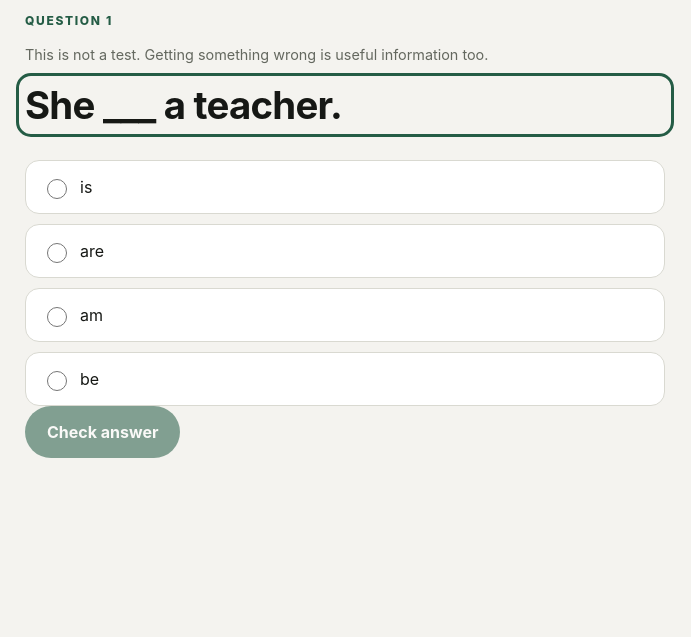
it: answering › locks the answer once submitted
The image size is (691, 637).
expect the heading "She ___ a teacher." is shown: met, box [25,82,342,128]
Click the radio button labelled "is": (57,189) [47,179,67,199]
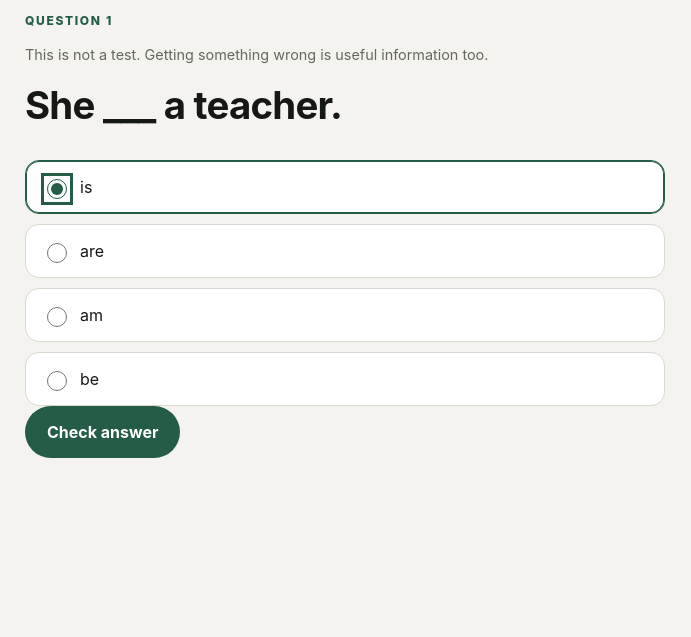
Click the button "Check answer": (103,432) [25,406,180,458]
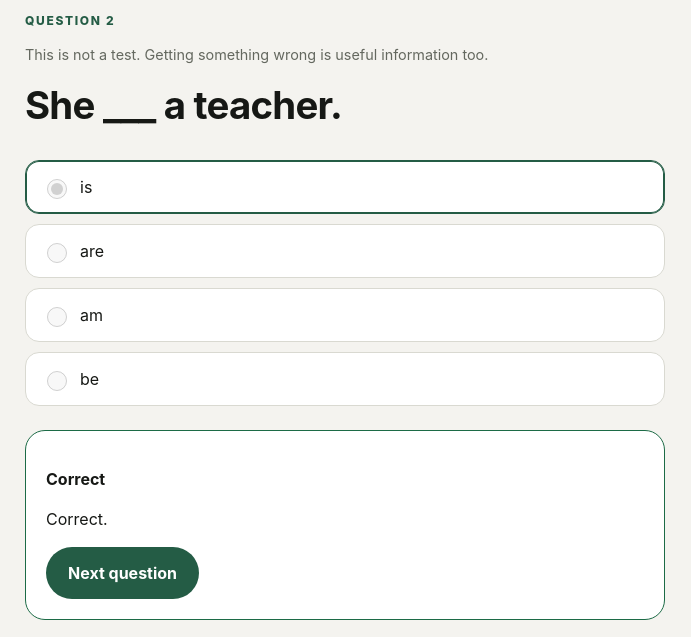
expect the radio button labelled "is" is disabled: met, box [47,179,67,199]
expect the message "Correct Correct. Next question" is shown: met, box [25,430,665,620]
expect the button "Check answer" is gone: met
